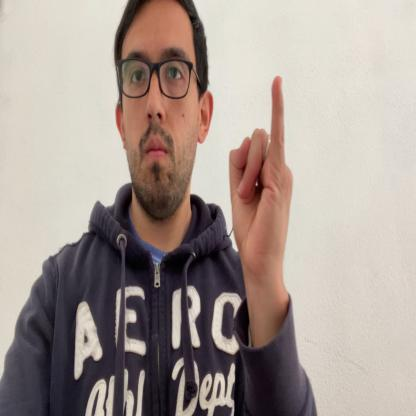I: (228, 75, 294, 284)
